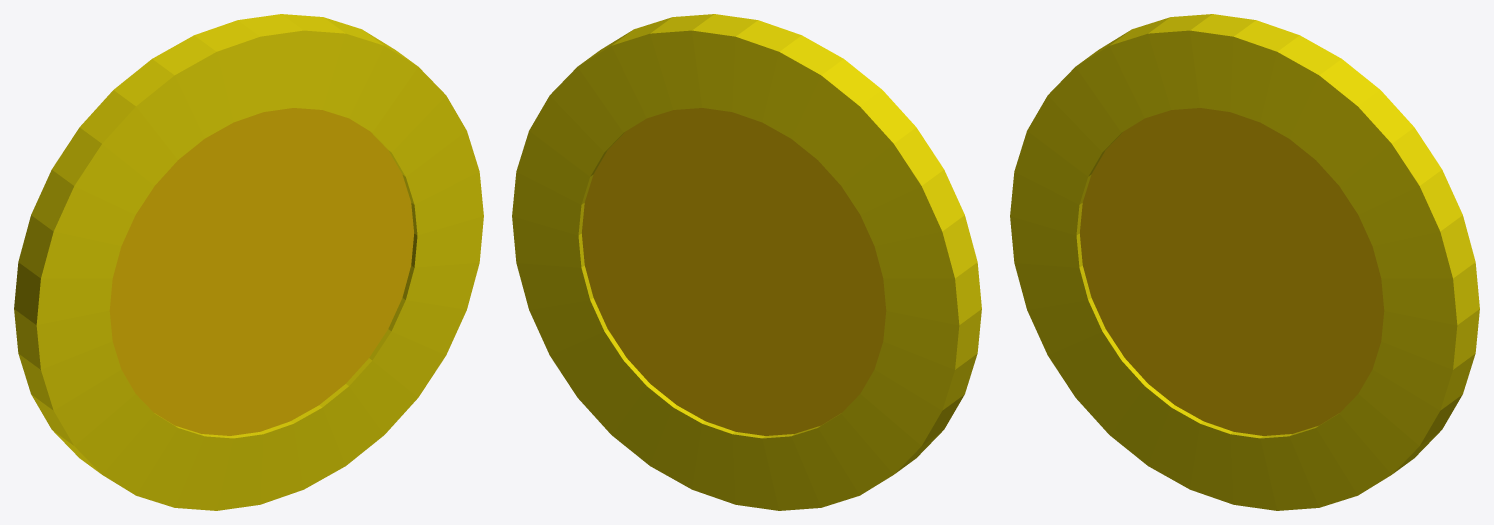
Rendered from Coin.fbx.
3 views of the same model, side by side, from view 1: azimuth 30°, elevation 25°; view 2: azimuth 150°, elevation 25°; view 3: azimuth 330°, elevation 25° (orthographic).
Parts seen in each view (by area): view 1: Cylinder; view 2: Cylinder; view 3: Cylinder.
Part boxes in pixels (left/top/right/bottom): Cylinder: left=14, top=14, right=483, bottom=510; Cylinder: left=512, top=14, right=981, bottom=510; Cylinder: left=1010, top=14, right=1479, bottom=510.
Size of the model in its own units: 200 by 200 by 22.63.
